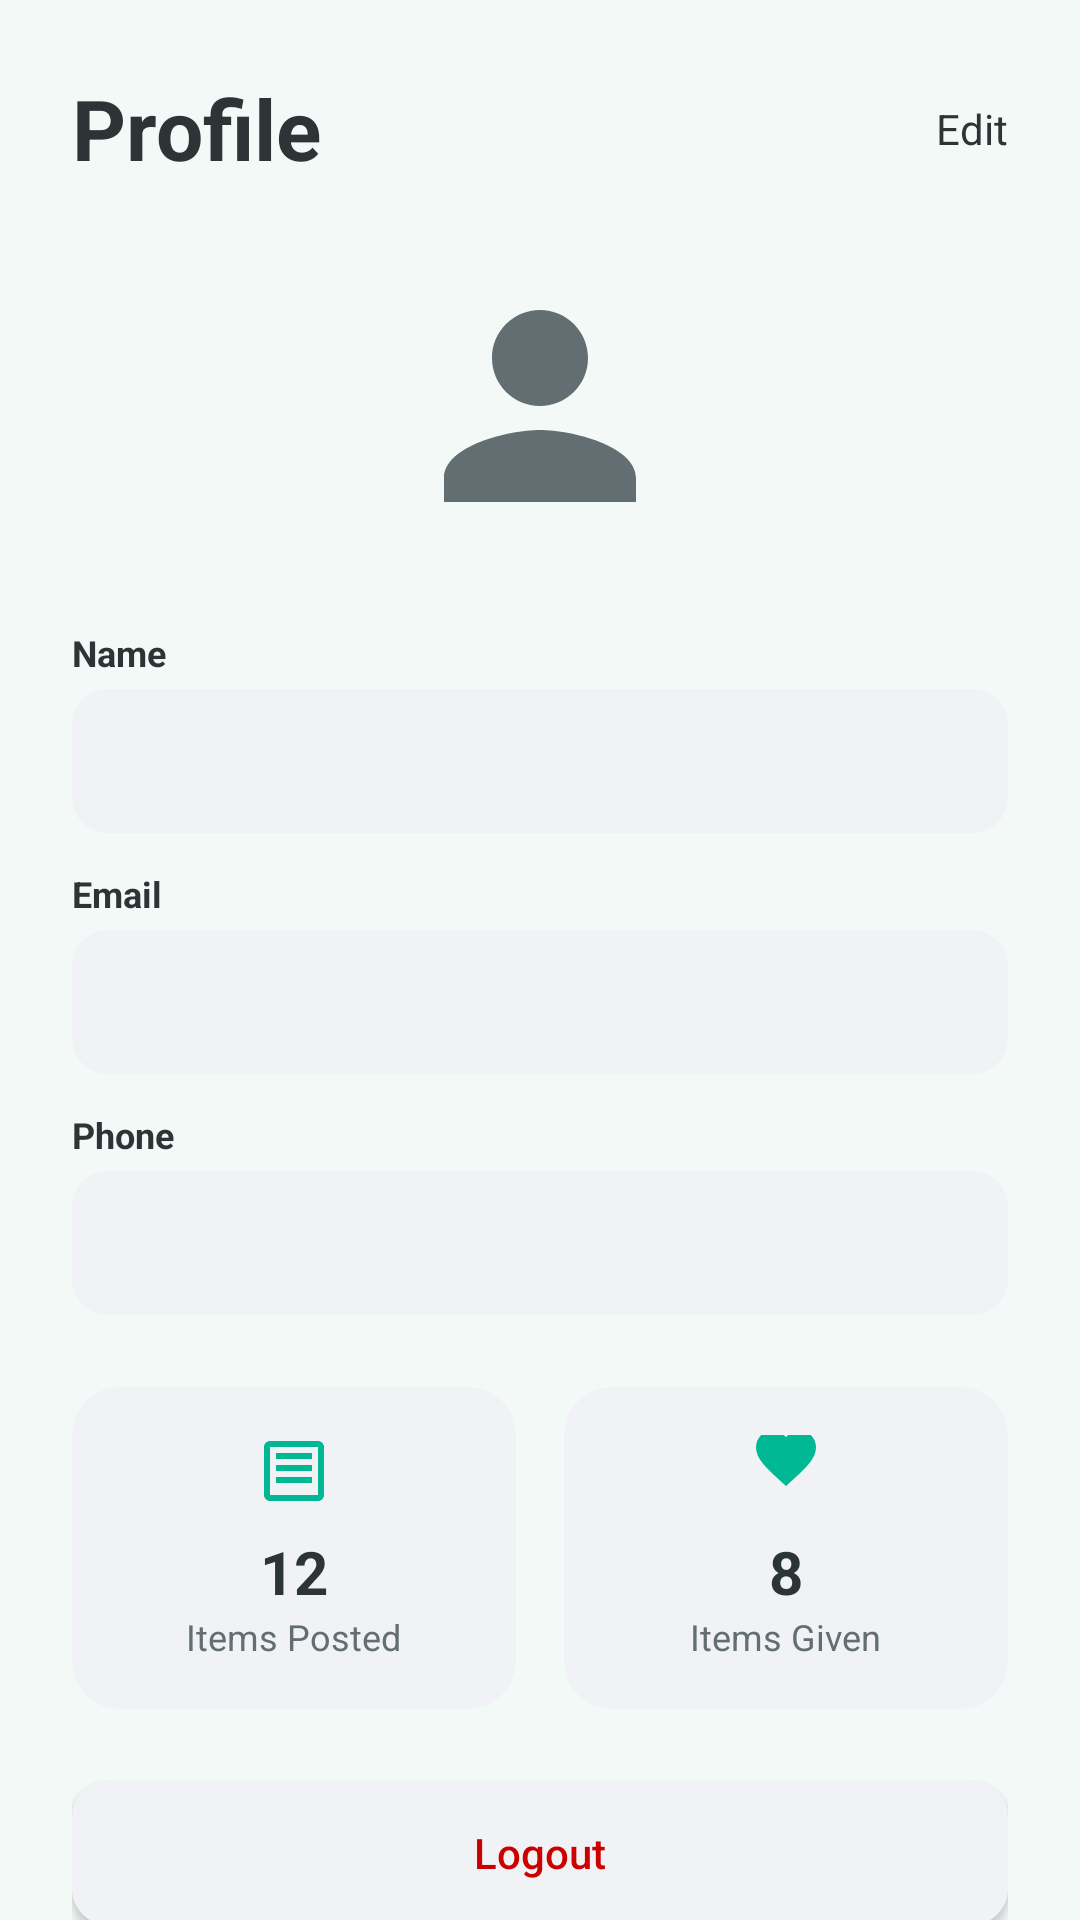

Icon bounding boxes for this 1080*1920 phone screenshot, format bbox=[x1, y1, x2, y2]:
heart: bbox=[756, 1435, 816, 1486]
